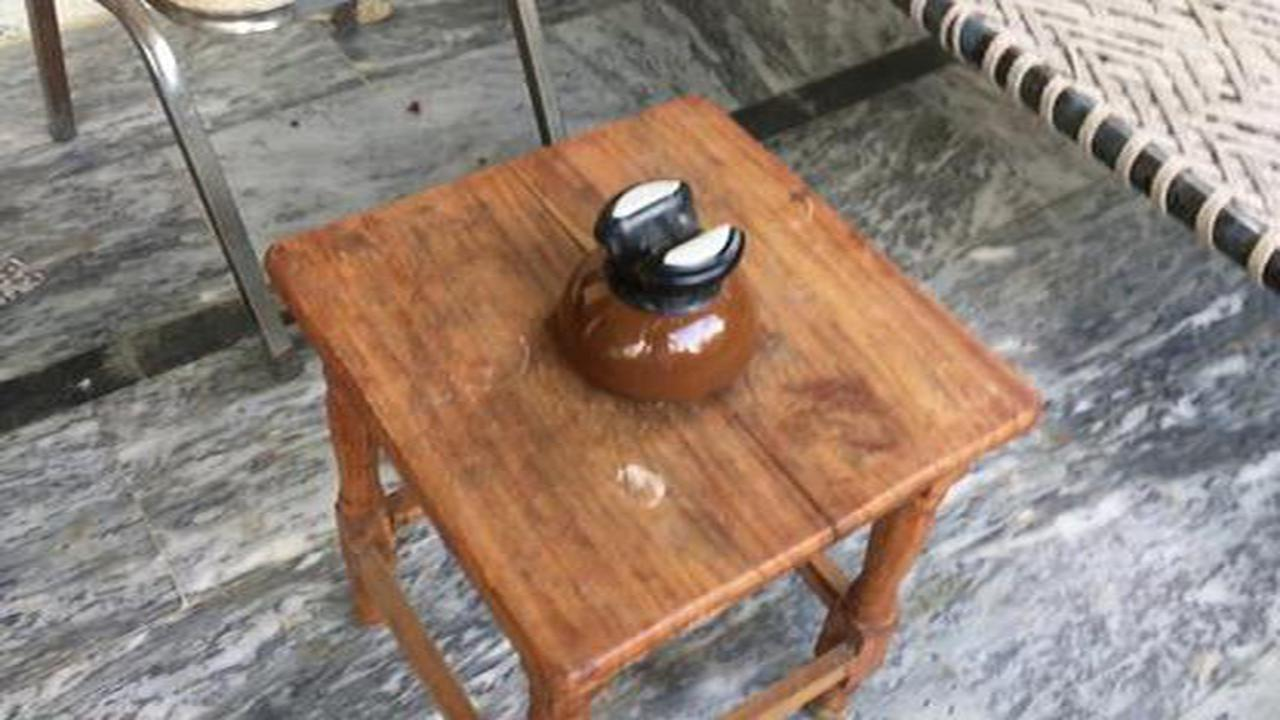insulator_pin: (524, 156, 785, 421)
